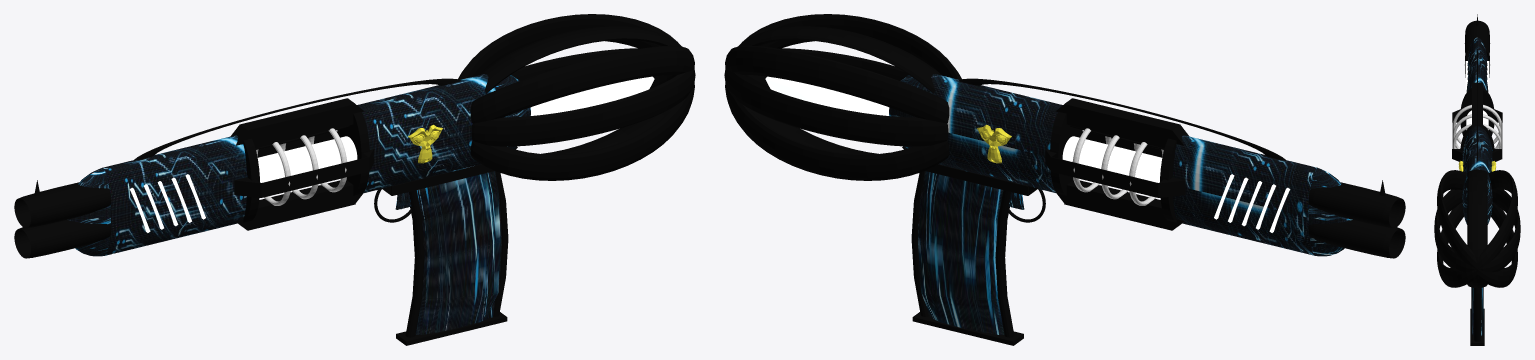
The model's file is gun1.glb.
3 views of the same model, side by side, from view 1: azimuth 30°, elevation 25°; view 2: azimuth 150°, elevation 25°; view 3: azimuth 270°, elevation 25° (orthographic). The views are drawn at different scales.
Parts seen in each view (by area): view 1: Torus.008, Cylinder, Torus.012, Cylinder.004, Torus.013, Torus.011, Torus.014, Cube.004, Torus.001, Torus.006, Cube.005, Cylinder.001 (+11 smaller); view 2: Torus.008, Cylinder, Torus.011, Cylinder.004, Torus.013, Torus.012, Torus.014, Cube.004, Torus.001, Torus.006, Cube.005, Cylinder.001 (+11 smaller); view 3: Torus.011, Torus.012, Torus.013, Torus.014, Cylinder.004, Cylinder, Torus.001, Cylinder.002, Sphere.004, Cube.004, Torus.010, Torus.008 (+11 smaller).
Part boxes in pixels (bbox=[...]): Torus.008: bbox=[415, 165, 501, 334]; Cylinder: bbox=[102, 135, 247, 255]; Torus.012: bbox=[458, 14, 694, 180]; Cylinder.004: bbox=[357, 74, 495, 192]; Torus.013: bbox=[471, 48, 695, 146]; Torus.011: bbox=[470, 45, 694, 123]; Torus.014: bbox=[478, 26, 682, 154]; Cube.004: bbox=[240, 98, 355, 148]; Torus.001: bbox=[14, 182, 111, 227]; Torus.006: bbox=[14, 220, 111, 258]; Cube.005: bbox=[247, 180, 355, 230]; Cylinder.001: bbox=[257, 136, 357, 182]; Torus.008: bbox=[918, 165, 1004, 334]; Cylinder: bbox=[1172, 135, 1317, 255]; Torus.011: bbox=[725, 14, 961, 180]; Cylinder.004: bbox=[924, 74, 1062, 192]; Torus.013: bbox=[724, 48, 948, 146]; Torus.012: bbox=[725, 45, 949, 123]; Torus.014: bbox=[737, 26, 941, 154]; Cube.004: bbox=[1064, 98, 1179, 148]; Torus.001: bbox=[1308, 182, 1405, 227]; Torus.006: bbox=[1308, 220, 1405, 258]; Cube.005: bbox=[1064, 180, 1172, 230]; Cylinder.001: bbox=[1062, 136, 1162, 182]; Torus.011: bbox=[1437, 170, 1517, 287]; Torus.012: bbox=[1437, 170, 1517, 287]; Torus.013: bbox=[1434, 189, 1520, 272]; Torus.014: bbox=[1467, 169, 1487, 287]; Cylinder.004: bbox=[1462, 126, 1492, 197]; Cylinder: bbox=[1466, 40, 1488, 92]; Torus.001: bbox=[1464, 20, 1490, 60]; Cylinder.002: bbox=[1460, 88, 1494, 135]; Sphere.004: bbox=[1462, 179, 1492, 224]; Cube.004: bbox=[1472, 82, 1482, 119]; Torus.010: bbox=[1474, 288, 1480, 341]; Torus.008: bbox=[1471, 287, 1483, 336].
Bounding box in the file's own units: 0.2404 × 0.0911 × 0.0388.
5 materials, 1 textured.
